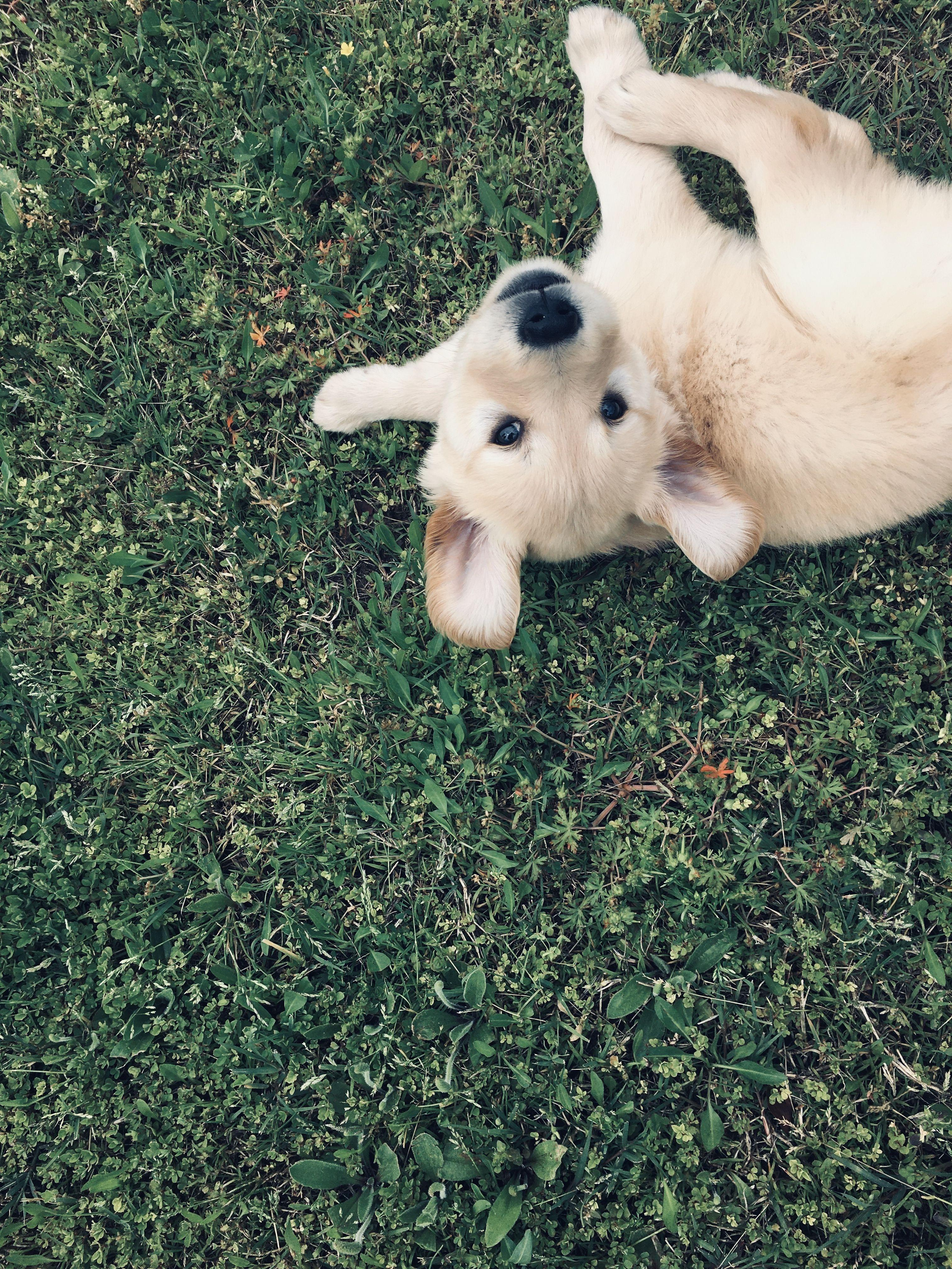puppy-dog: (310, 4, 952, 651)
